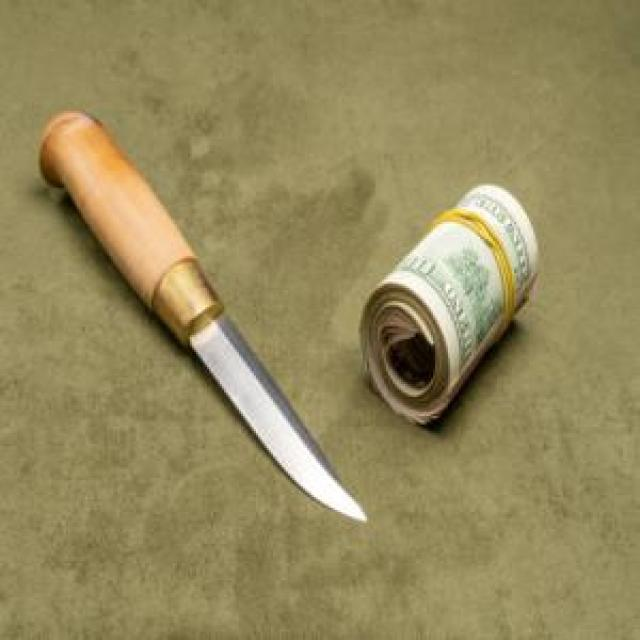knife: (36, 113, 370, 524)
